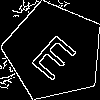E: (29, 26, 85, 82)
